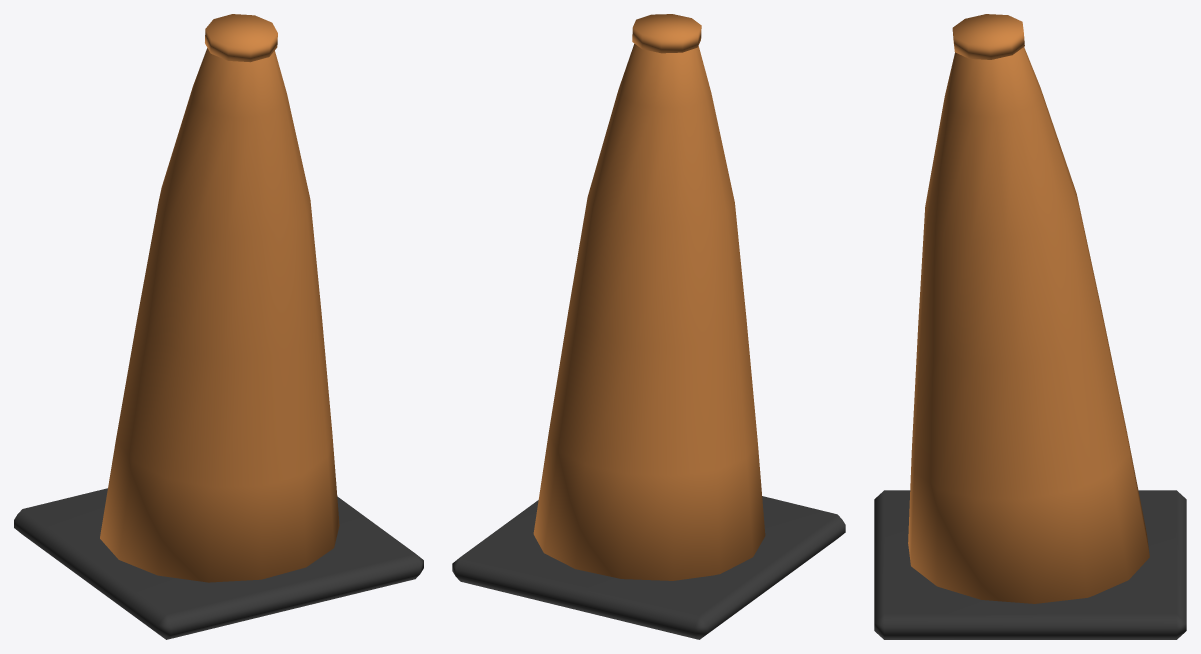
File: traffic_cone.glb
3 renders of one model, left to right at view 1: azimuth 30°, elevation 25°; view 2: azimuth 150°, elevation 25°; view 3: azimuth 270°, elevation 25°, orthographic. The views are drawn at different scales.
Visible parts, largest first — view 1: traffic_cone; view 2: traffic_cone; view 3: traffic_cone.
Part boxes in pixels (<box>): traffic_cone: <box>14,14,423,639</box>; traffic_cone: <box>452,14,845,639</box>; traffic_cone: <box>874,14,1186,639</box>.
Size of what is drawn, in the model's own units: 0.38 by 0.7412 by 0.38.
